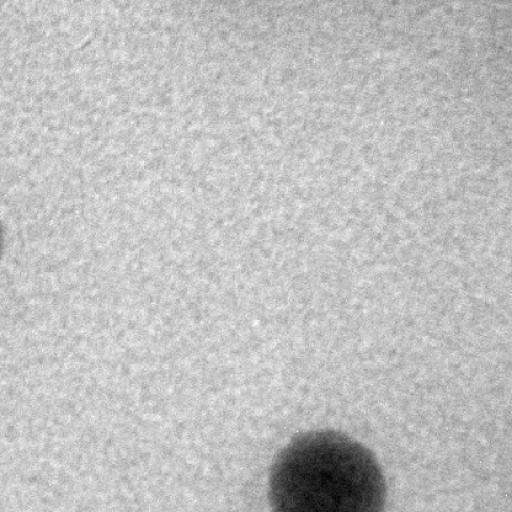Nanoparticles: (266, 427, 386, 511)
